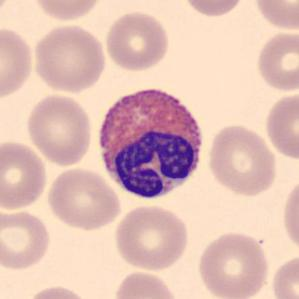Eosinophil: (91, 79, 210, 206)
RBC: (30, 21, 108, 95), (205, 122, 279, 198), (111, 203, 191, 272), (23, 92, 95, 167), (196, 229, 272, 299), (44, 166, 123, 232), (102, 8, 172, 73), (0, 139, 49, 213), (0, 207, 53, 272), (253, 29, 298, 93), (0, 24, 36, 102), (262, 90, 298, 161), (110, 268, 181, 299), (31, 0, 105, 23), (280, 174, 299, 256), (251, 0, 299, 32), (268, 252, 299, 299), (181, 0, 247, 18), (25, 283, 91, 299), (0, 0, 13, 21)
